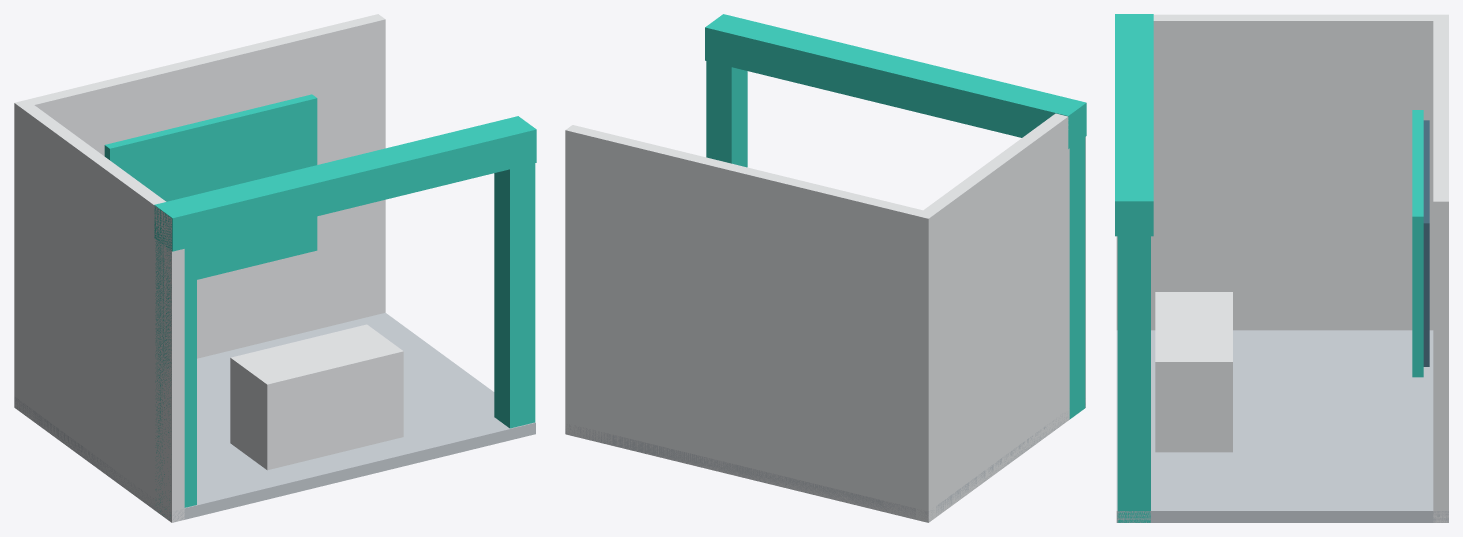
3 views of the same model, side by side, from view 1: azimuth 30°, elevation 25°; view 2: azimuth 150°, elevation 25°; view 3: azimuth 270°, elevation 25° (orthographic). The views are drawn at different scales.
Parts seen in each view (by area): view 1: Exhibition Booth Concept; view 2: Exhibition Booth Concept; view 3: Exhibition Booth Concept.
Boxes of the visible parts, x1,y1,x2,y2 form: Exhibition Booth Concept: [14, 14, 536, 522]; Exhibition Booth Concept: [565, 14, 1086, 522]; Exhibition Booth Concept: [1115, 14, 1448, 522].
Bounding box in the file's own units: 4 × 3.2 × 3.01.
